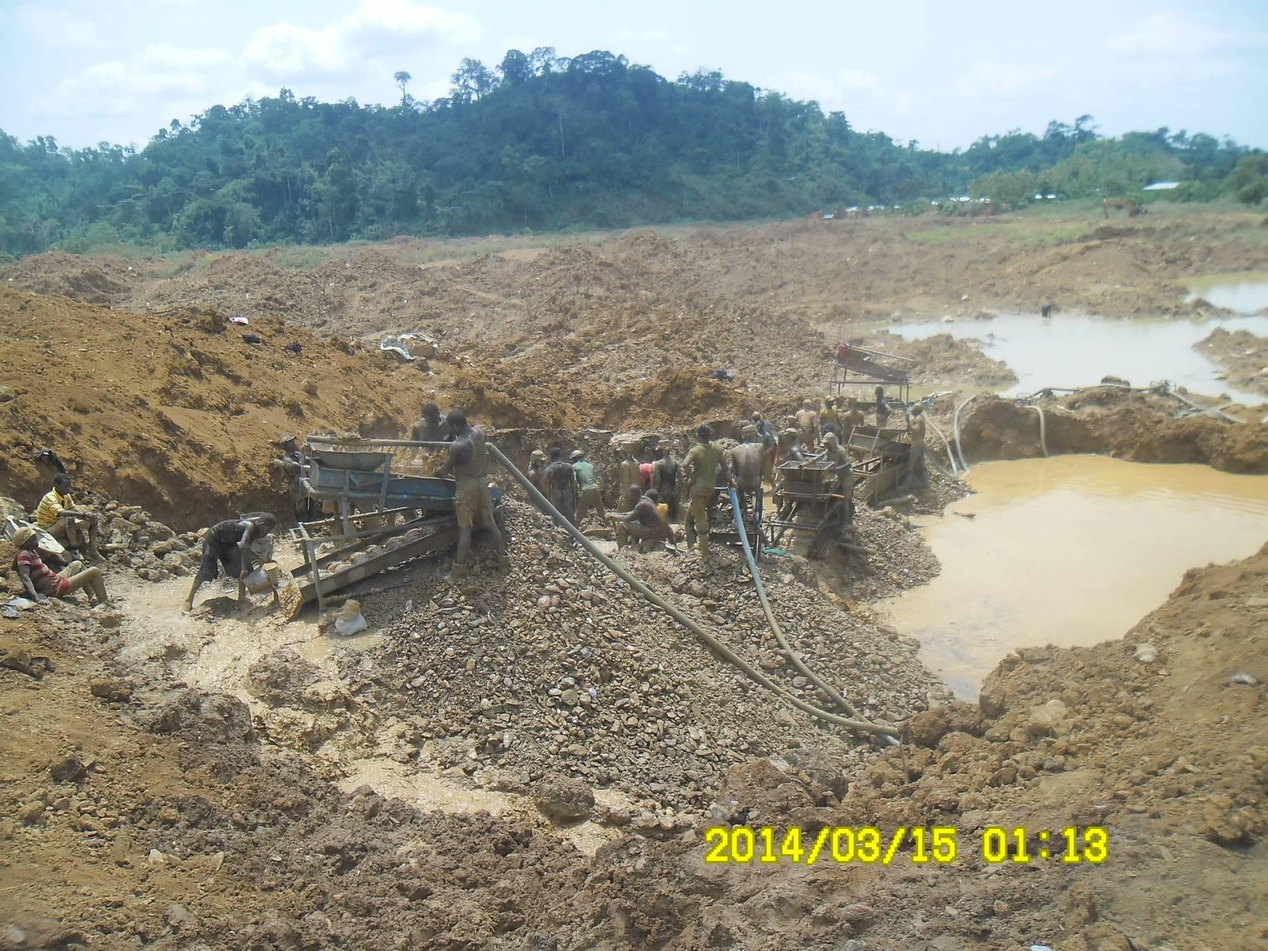ExcavationMachinery: (1100, 195, 1154, 220)
MiningTool: (243, 567, 274, 596), (253, 561, 280, 589), (239, 510, 267, 537)
Person: (433, 409, 515, 580), (12, 521, 116, 611), (185, 512, 268, 613), (679, 424, 737, 556), (35, 477, 111, 565), (604, 484, 665, 556), (729, 424, 766, 537), (819, 432, 858, 527), (570, 447, 611, 535), (544, 446, 577, 531), (899, 400, 930, 490), (407, 401, 457, 455), (637, 489, 679, 551), (613, 441, 645, 513), (748, 418, 777, 495), (650, 446, 682, 513), (774, 415, 807, 468), (525, 448, 551, 514), (797, 398, 821, 452), (817, 393, 841, 438), (839, 395, 864, 430), (873, 386, 894, 426), (1042, 301, 1053, 318)
ProcessingEquipment: (286, 436, 502, 601), (766, 457, 848, 563), (844, 423, 920, 499), (826, 341, 918, 402), (696, 472, 759, 561)
